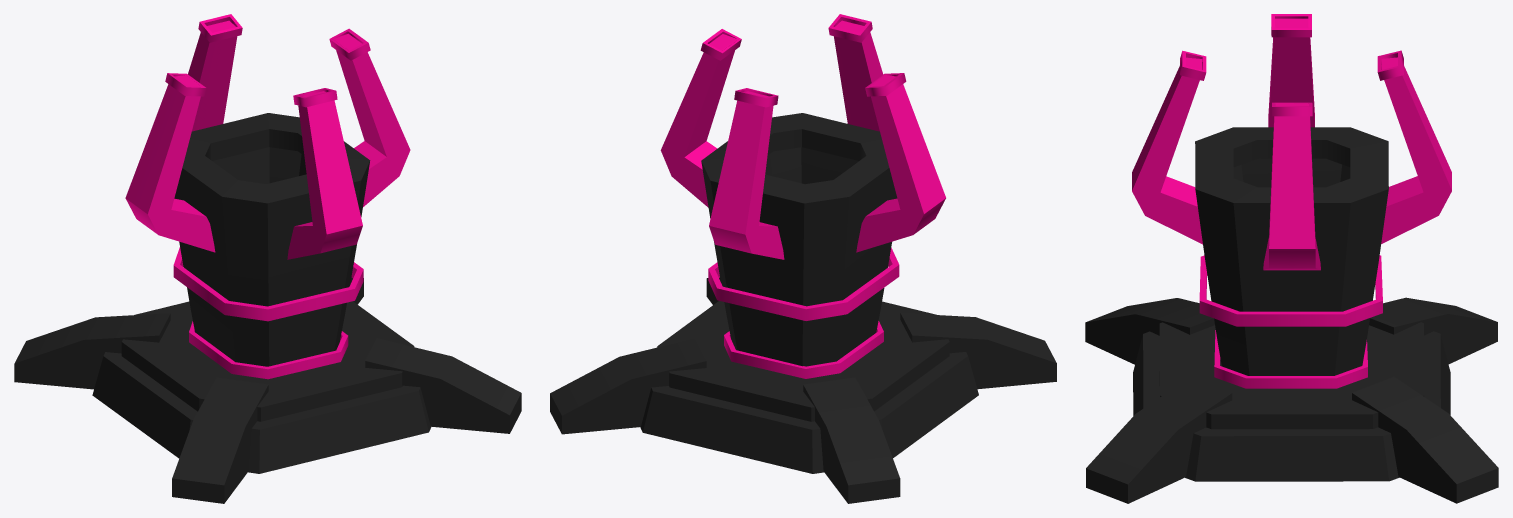
File: TLaser.fbx
The picture shows the model from 3 angles, left to right: view 1: azimuth 30°, elevation 25°; view 2: azimuth 150°, elevation 25°; view 3: azimuth 270°, elevation 25°; orthographic projection. The views are drawn at different scales.
Parts seen in each view (by area): view 1: base, cachibaches; view 2: base, cachibaches; view 3: base, cachibaches.
Part boxes in pixels (x1,y1,x2,y2): base: (14, 113, 521, 503); cachibaches: (125, 14, 410, 379); base: (550, 113, 1056, 503); cachibaches: (660, 14, 945, 378); base: (1085, 127, 1498, 503); cachibaches: (1132, 14, 1451, 388).
Bounding box in the file's own units: 38.02 × 35.42 × 37.18.
